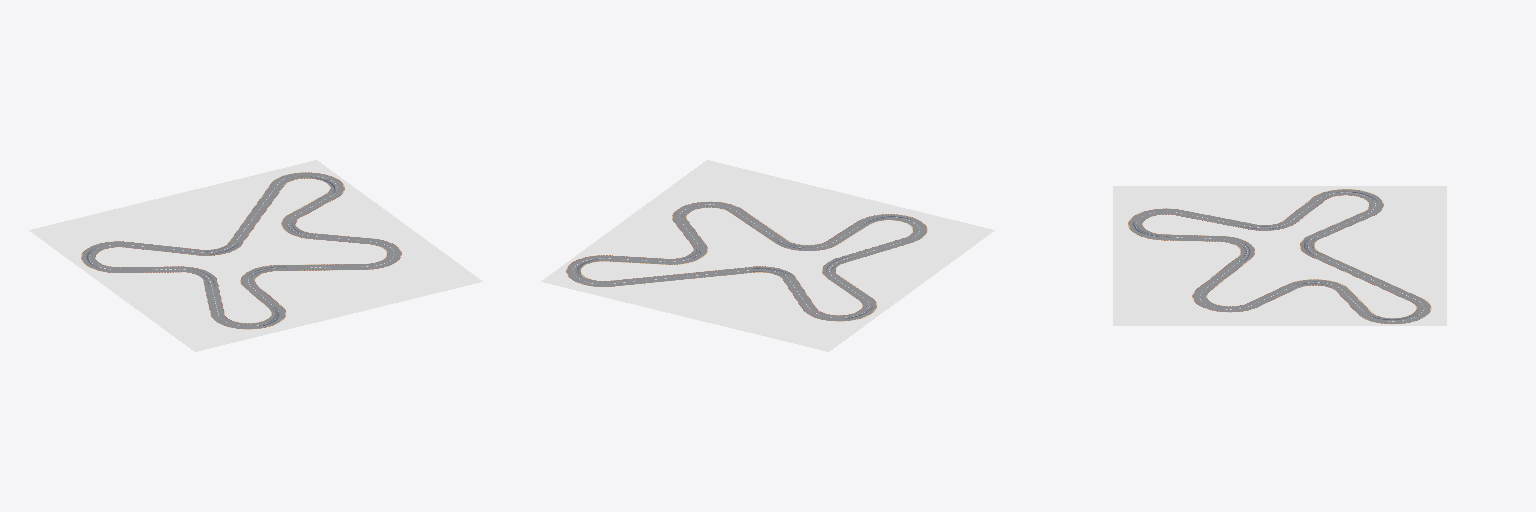
3 renders of one model, left to right at view 1: azimuth 30°, elevation 25°; view 2: azimuth 150°, elevation 25°; view 3: azimuth 270°, elevation 25°, orthographic.
Parts seen in each view (by area): view 1: race-track-obj; view 2: race-track-obj; view 3: race-track-obj.
Part boxes in pixels (x1,y1,x2,y2): race-track-obj: (29,160,482,351); race-track-obj: (541,160,994,351); race-track-obj: (1113,186,1446,325).
Bounding box in the file's own units: 200 × 0 × 200.
Materials: 1 (1 with a texture image).